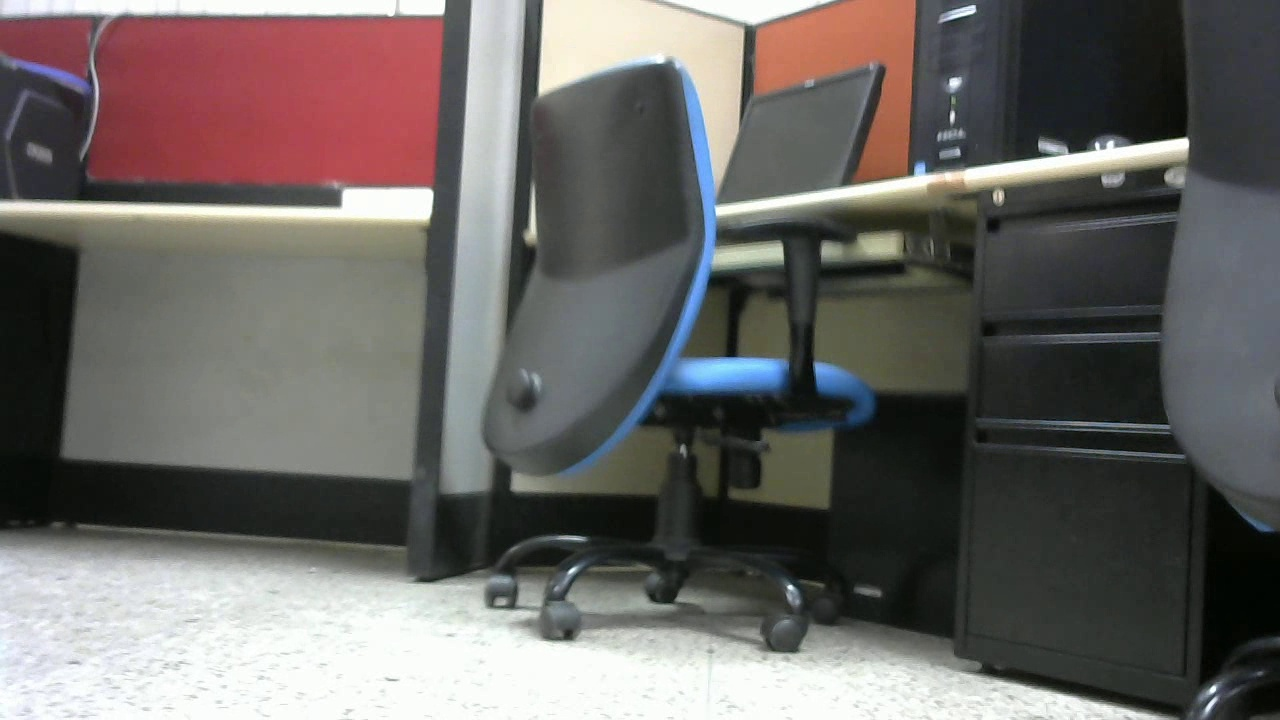chair: (458, 57, 876, 661)
